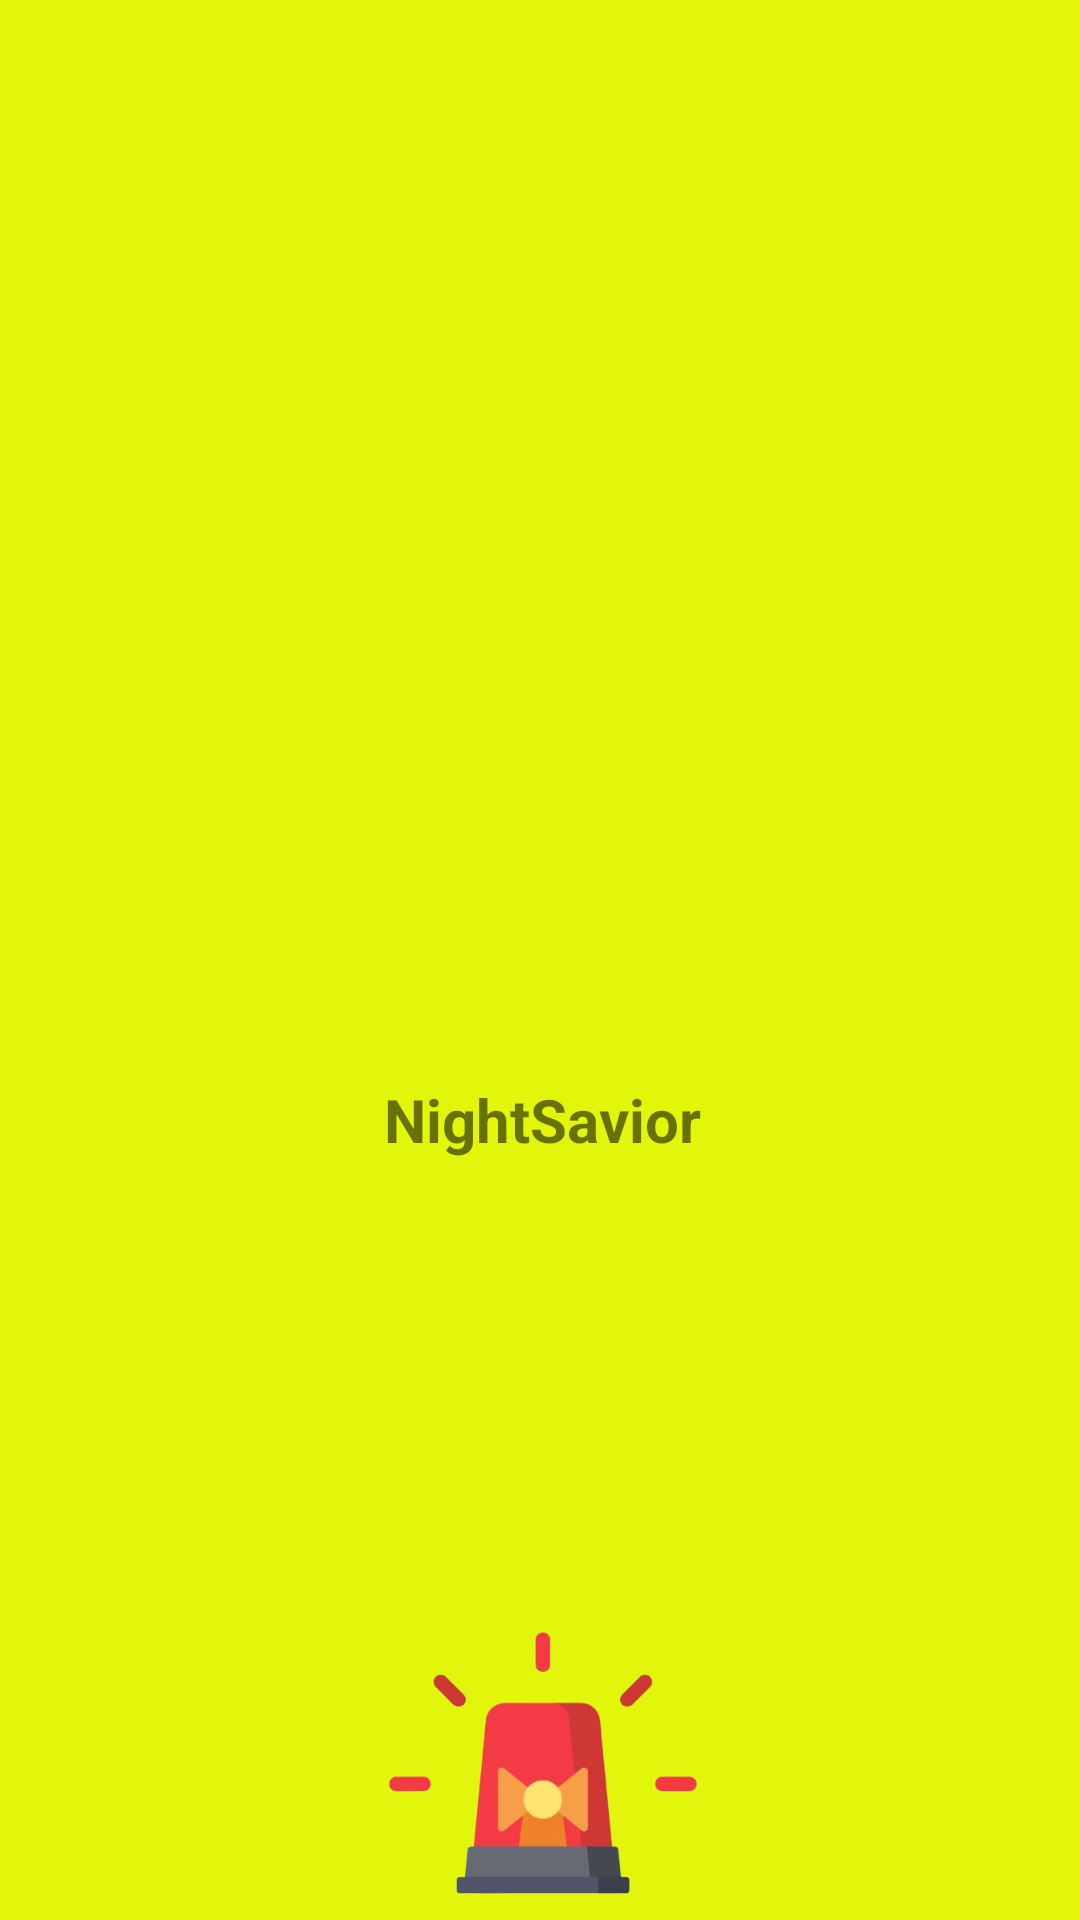

Named icons in this screenshot (1080x1920) and their bounding boxes, (x1, y1, x2, y2):
emergency: (389, 1632, 697, 1894)
